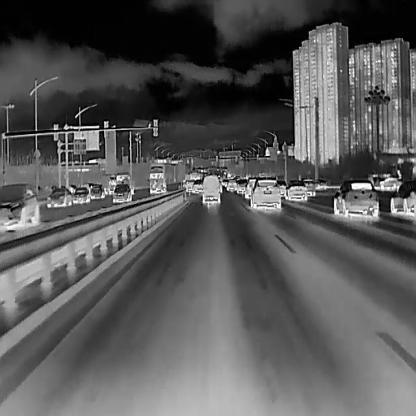car: (0, 182, 40, 231), (332, 178, 378, 214), (149, 159, 185, 193), (250, 178, 281, 208), (390, 180, 415, 216), (202, 176, 221, 203), (47, 186, 71, 207), (287, 179, 307, 201), (113, 183, 132, 201), (377, 176, 400, 189), (73, 187, 90, 202), (245, 178, 256, 197), (304, 178, 315, 196), (90, 184, 104, 198), (275, 178, 285, 197), (192, 179, 203, 193), (237, 179, 245, 193), (226, 179, 236, 190)
